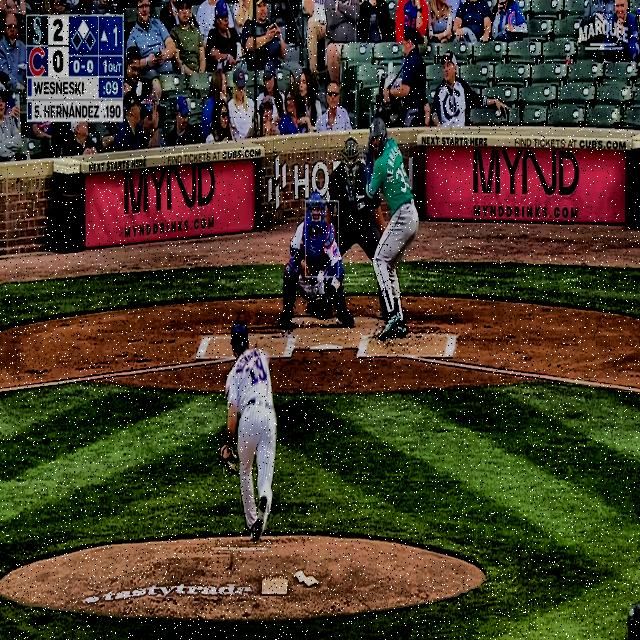baseball: (317, 270, 324, 282)
